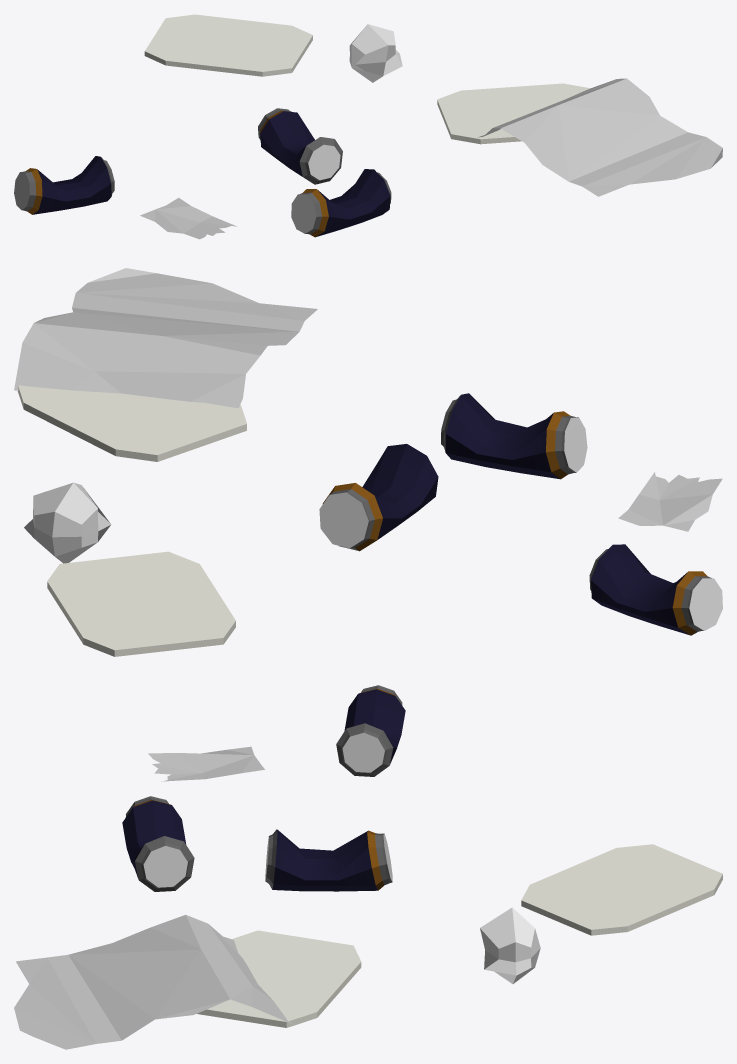
File: WarehouseTrash5.glb
3 views of the same model, one above another, from view 1: azimuth 30°, elevation 25°; view 2: azimuth 150°, elevation 25°; view 3: azimuth 270°, elevation 25° (orthographic). The views are drawn at different scales.
Parts seen in each view (by area): view 1: SM_Paper_05.005, HexPaper.006, HexPaper.007, Soda.009, Soda.008, Soda.007, CrumpledPaper.004, SM_Paper_01.004; view 2: SM_Paper_05.005, HexPaper.006, HexPaper.007, Soda.009, Soda.008, Soda.007, CrumpledPaper.004, SM_Paper_01.004; view 3: SM_Paper_05.005, HexPaper.006, HexPaper.007, Soda.008, Soda.009, Soda.007, CrumpledPaper.004, SM_Paper_01.004.
Boxes of the visible parts, box(x1,y1,x2,y2) form: SM_Paper_05.005: box(478, 78, 722, 196); HexPaper.006: box(144, 14, 312, 76); HexPaper.007: box(437, 83, 590, 144); Soda.009: box(291, 169, 391, 237); Soda.008: box(258, 108, 342, 184); Soda.007: box(14, 156, 114, 214); CrumpledPaper.004: box(349, 24, 402, 82); SM_Paper_01.004: box(140, 197, 236, 239); SM_Paper_05.005: box(14, 268, 317, 408); HexPaper.006: box(47, 551, 235, 656); HexPaper.007: box(17, 385, 246, 461); Soda.009: box(441, 393, 587, 479); Soda.008: box(319, 444, 438, 551); Soda.007: box(589, 544, 722, 635); CrumpledPaper.004: box(24, 482, 111, 563); SM_Paper_01.004: box(618, 472, 722, 531); SM_Paper_05.005: box(14, 914, 292, 1049); HexPaper.006: box(521, 844, 722, 935); HexPaper.007: box(197, 930, 361, 1027); Soda.008: box(265, 829, 392, 891); Soda.009: box(122, 796, 194, 891); Soda.007: box(336, 685, 405, 776); CrumpledPaper.004: box(480, 907, 540, 983); SM_Paper_01.004: box(148, 746, 264, 781).
Bounding box in the file's own units: 0.6204 × 0.0622 × 0.5408.
